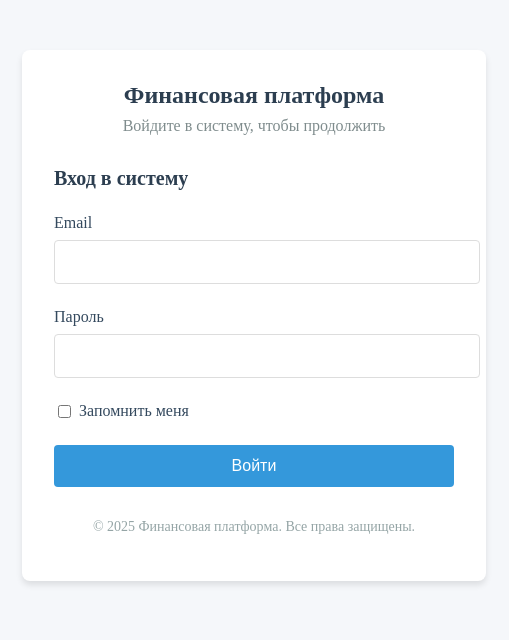
Test: LoginPage - интеграционные тесты › должен отображать ошибку аутентификации
The width and height of the screenshot is (509, 640).
Note: Заполняем форму внутри act
Type "test@example.com" into the field labelled "Email" at (267, 262), box x1=54 y1=240 x2=480 y2=284
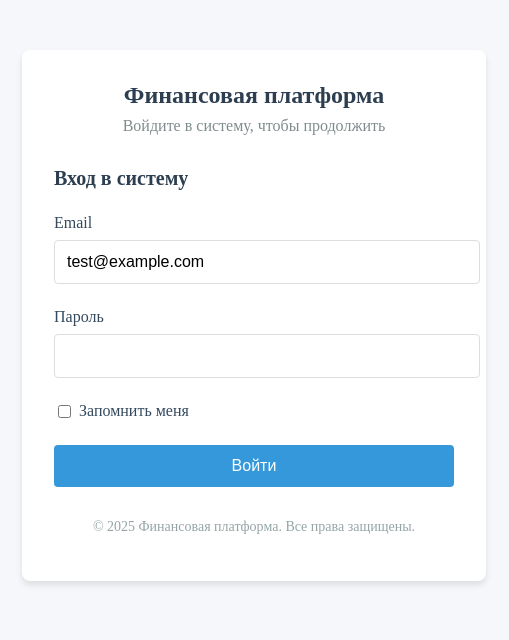
Type "wrong-password" into the password field labelled "Пароль" at (267, 356), box x1=54 y1=334 x2=480 y2=378
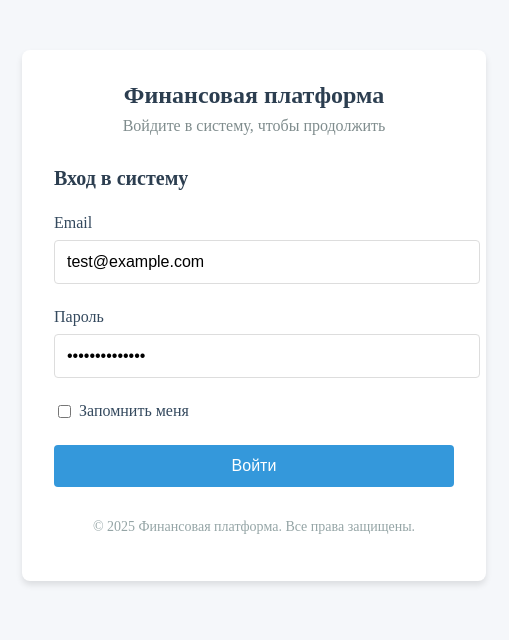
Note: Отправляем форму внутри act
Click the button "Войти" at (254, 466), box x1=54 y1=444 x2=454 y2=486
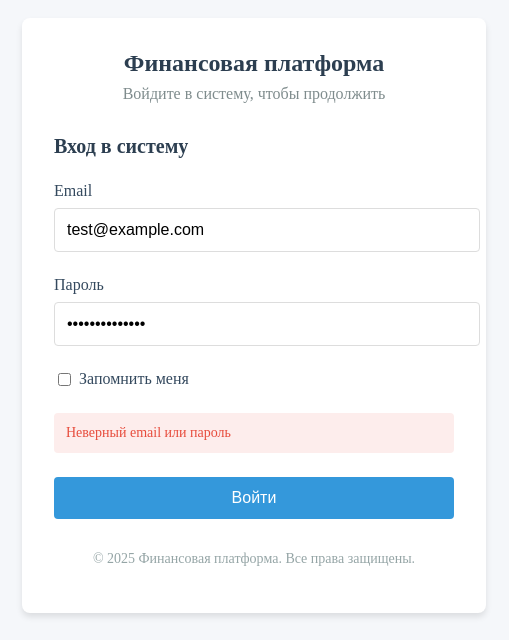
Check: the text "Неверный email или пароль" is shown, box x1=54 y1=412 x2=454 y2=452
